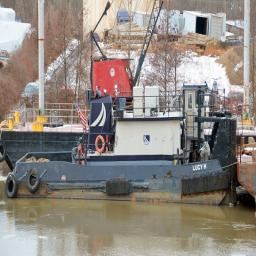tugboat: (6, 82, 243, 215)
